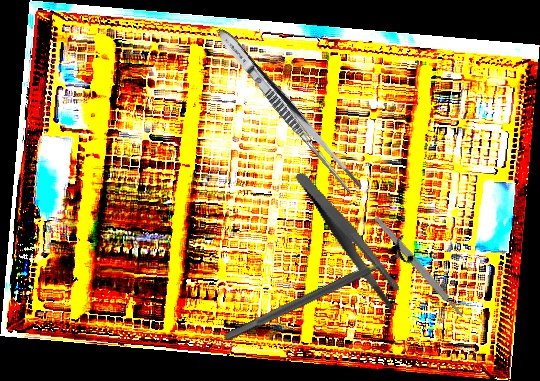Dressing Forceps: (210, 22, 367, 199), (294, 155, 406, 324)
Fixation Ring: (217, 233, 417, 352)
Scalpel Handle: (372, 214, 466, 320)
